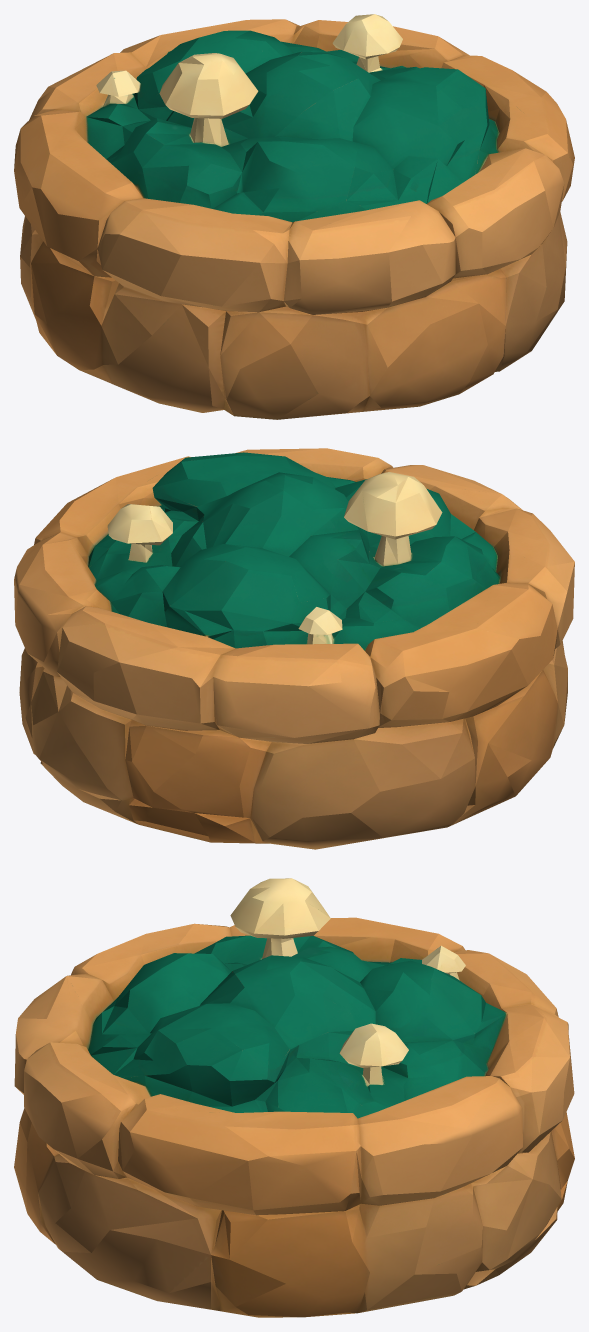
The model's file is TWN_PRP_mossbed_A.glb.
3 views of the same model, one above another, from view 1: azimuth 30°, elevation 25°; view 2: azimuth 150°, elevation 25°; view 3: azimuth 270°, elevation 25° (orthographic).
Parts seen in each view (by area): view 1: Mesh_0; view 2: Mesh_0; view 3: Mesh_0.
Part boxes in pixels (box(x1,y1,x2,y2)): Mesh_0: box(14, 14, 574, 419); Mesh_0: box(14, 448, 574, 849); Mesh_0: box(14, 878, 574, 1317).
Size of the model in its own units: 1.9 by 1.07 by 1.9.
1 material, 1 textured.
